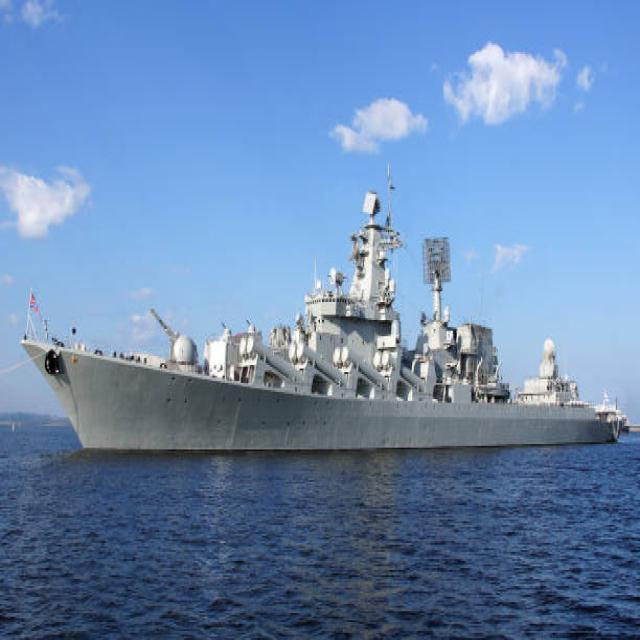Military: (20, 192, 630, 453)
